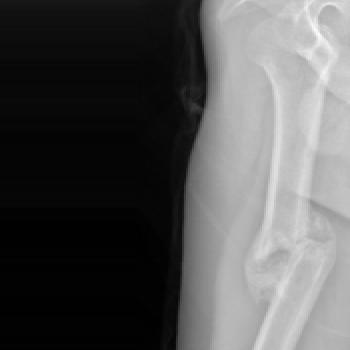Fracture: (245, 232, 340, 264)
